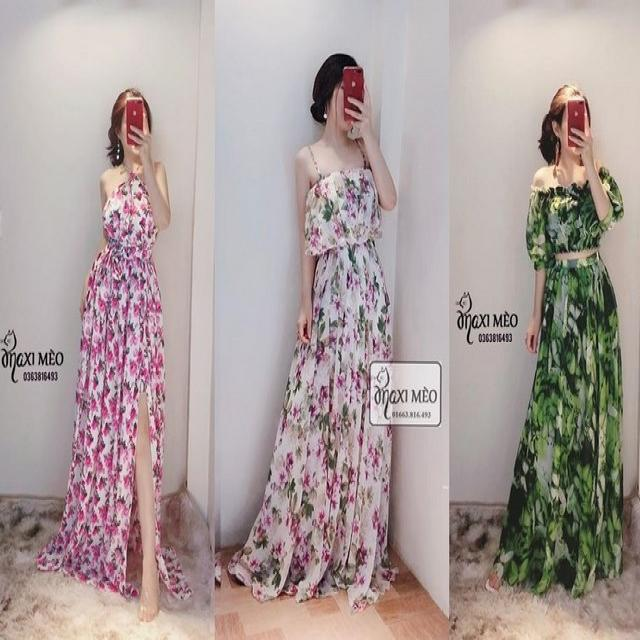clothes: (262, 143, 402, 609), (66, 163, 194, 603), (500, 162, 630, 588)
